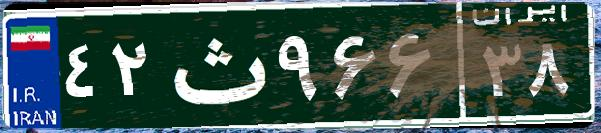2: (110, 28, 158, 105)
3: (475, 38, 525, 113)
4: (57, 26, 110, 107)
6: (385, 28, 445, 110), (330, 28, 385, 110)
8: (525, 38, 570, 115)
9: (273, 28, 330, 110)
ث: (158, 15, 273, 115)
